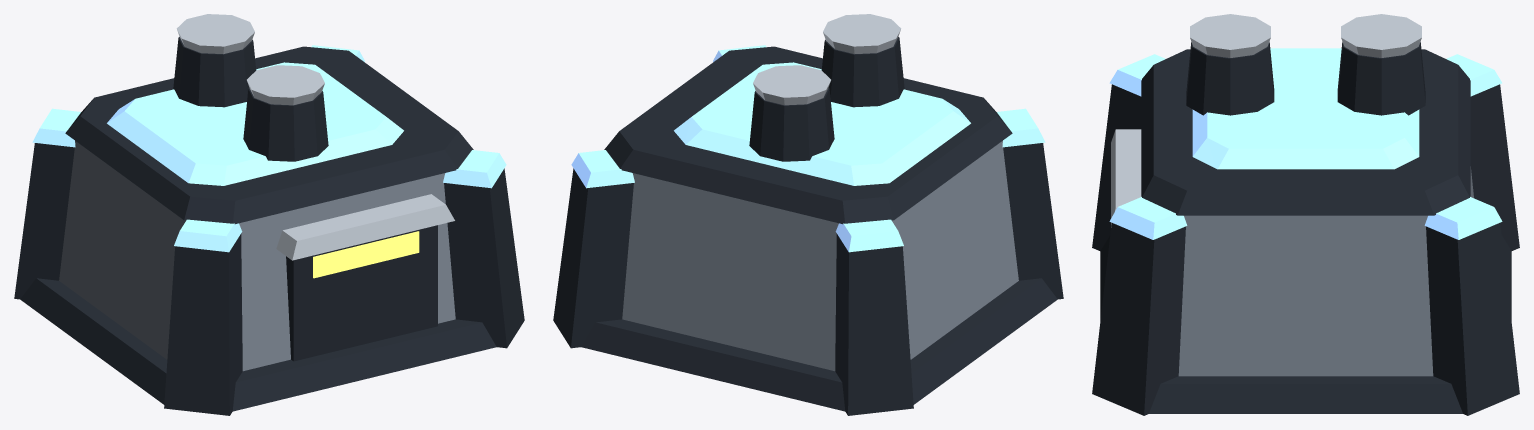
File: field_armory.glb
The picture shows the model from 3 angles, left to right: view 1: azimuth 30°, elevation 25°; view 2: azimuth 150°, elevation 25°; view 3: azimuth 270°, elevation 25°; orthographic projection. The views are drawn at different scales.
Parts seen in each view (by area): view 1: Surf_dark, Surf_armor, Surf_TEAM, Surf_light, Surf_amber; view 2: Surf_dark, Surf_armor, Surf_TEAM, Surf_light; view 3: Surf_dark, Surf_armor, Surf_TEAM, Surf_light.
Boxes of the visible parts, x1,y1,x2,y2 form: Surf_dark: [14, 37, 524, 415]; Surf_armor: [59, 141, 455, 371]; Surf_TEAM: [32, 45, 506, 252]; Surf_light: [176, 14, 454, 260]; Surf_amber: [313, 231, 419, 278]; Surf_dark: [553, 37, 1063, 415]; Surf_armor: [622, 141, 1018, 371]; Surf_TEAM: [571, 45, 1045, 252]; Surf_light: [753, 14, 901, 105]; Surf_dark: [1092, 42, 1519, 415]; Surf_armor: [1178, 166, 1473, 376]; Surf_TEAM: [1109, 48, 1502, 239]; Surf_light: [1111, 14, 1421, 227].
Bounding box in the file's own units: 4.65 × 3.18 × 4.42.
